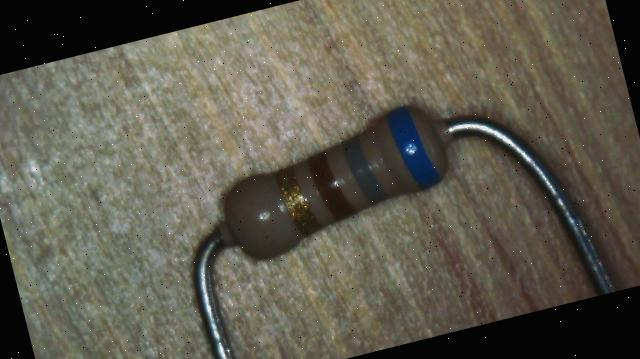blue: (384, 104, 440, 194)
brown: (306, 148, 356, 224)
gold: (274, 164, 319, 239)
grey: (340, 132, 388, 208)
resistor: (187, 70, 484, 289)
